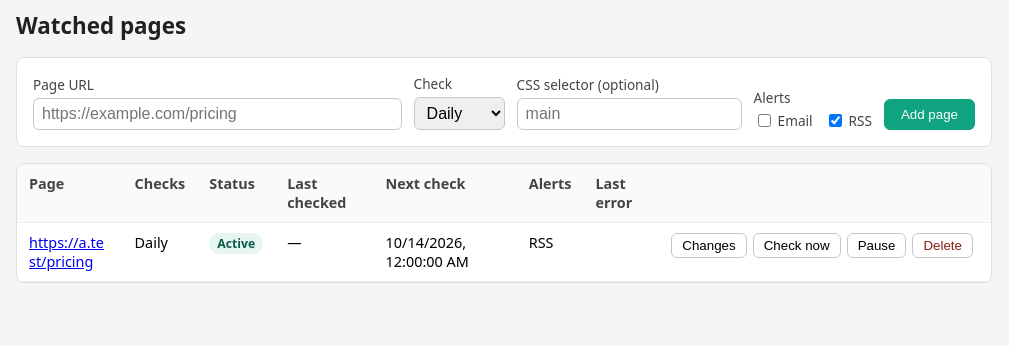
it: check now reports what it found
Click the button "Check now" at x=797, y=246, box x1=753 y1=233 x2=841 y2=258
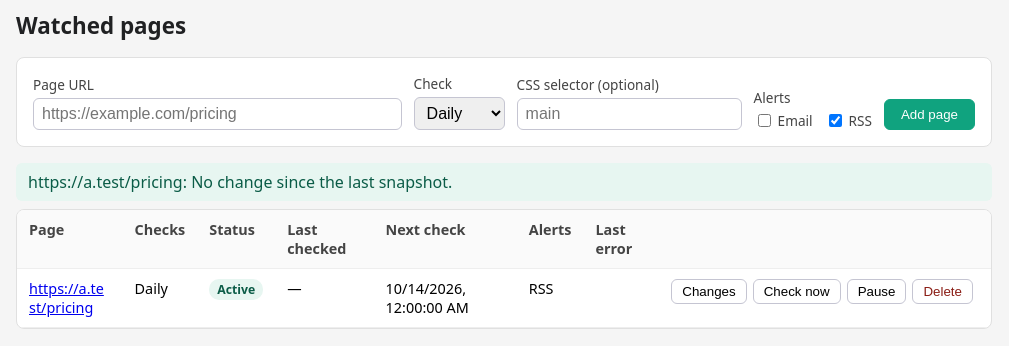
Expected: the text "https://a.test/pricing: No change since the last snapshot." is shown, x1=16 y1=163 x2=992 y2=201
